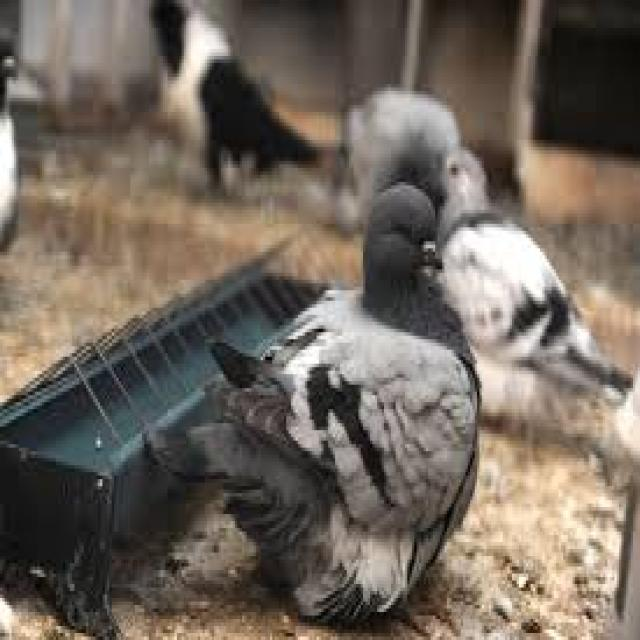pigeon: (169, 168, 485, 640)
